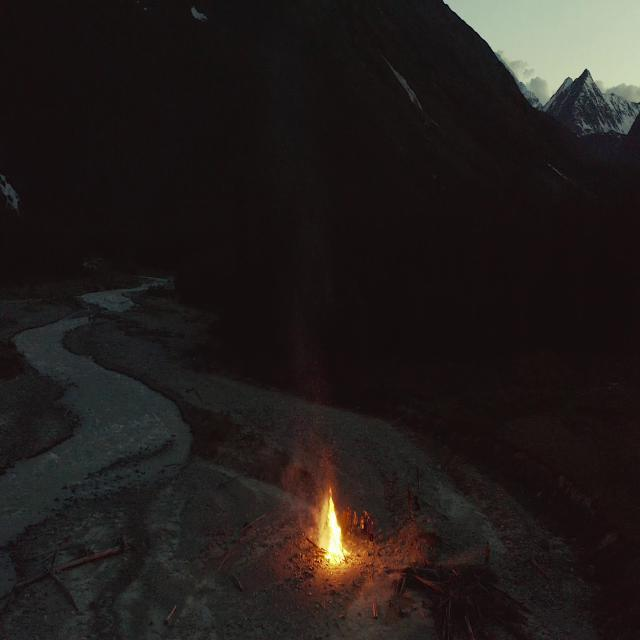Fire: (312, 478, 356, 571)
